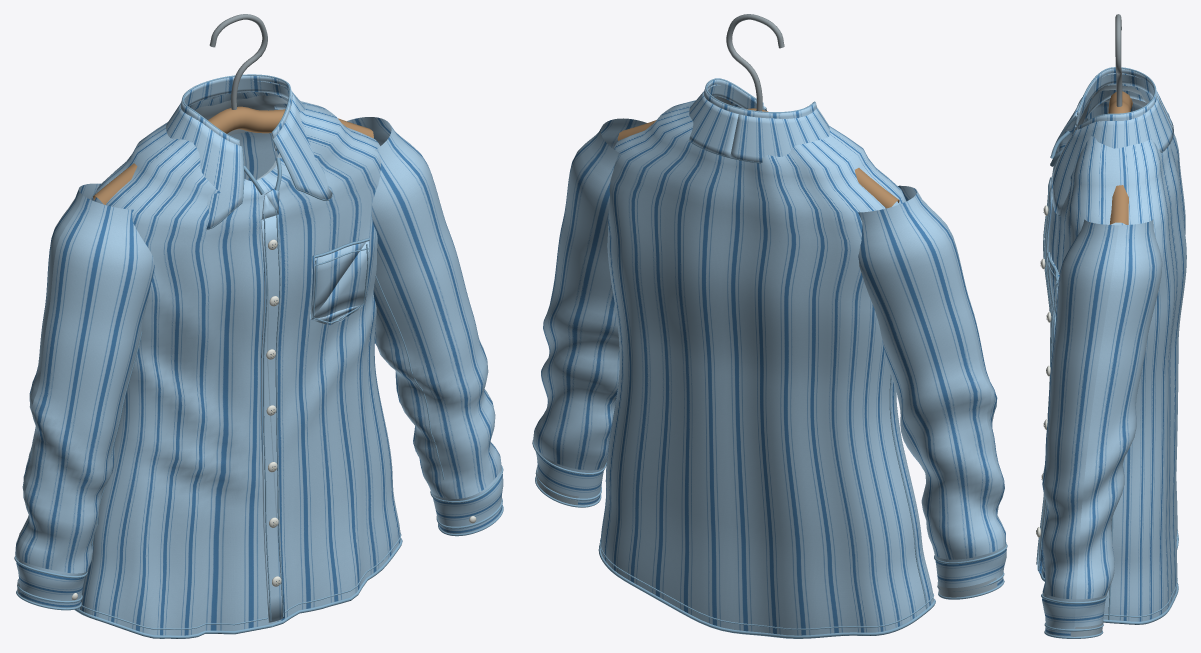
Rendered from oxford.glb.
The picture shows the model from 3 angles, left to right: view 1: azimuth 30°, elevation 25°; view 2: azimuth 150°, elevation 25°; view 3: azimuth 270°, elevation 25°; orthographic projection. The views are drawn at different scales.
Parts seen in each view (by area): view 1: oxford woven shell, Topstitched cloth edge, Warm beech, Yoke and facing, Brushed steel, Pearl buttons; view 2: oxford woven shell, Topstitched cloth edge, Brushed steel, Yoke and facing, Warm beech; view 3: oxford woven shell, Topstitched cloth edge, Warm beech, Yoke and facing, Brushed steel, Pearl buttons.
Boxes of the visible parts, x1,y1,x2,y2 form: oxford woven shell: [15, 76, 503, 635]; Topstitched cloth edge: [14, 74, 503, 638]; Warm beech: [93, 106, 373, 204]; Yoke and facing: [17, 95, 287, 594]; Brushed steel: [209, 14, 267, 109]; Pearl buttons: [71, 239, 476, 600]; oxford woven shell: [533, 79, 1006, 635]; Topstitched cloth edge: [532, 78, 1007, 638]; Brushed steel: [726, 14, 784, 111]; Yoke and facing: [536, 96, 997, 597]; Warm beech: [617, 108, 899, 208]; oxford woven shell: [1037, 68, 1186, 636]; Topstitched cloth edge: [1036, 67, 1178, 638]; Warm beech: [1108, 91, 1132, 224]; Yoke and facing: [1070, 85, 1148, 636]; Brushed steel: [1115, 14, 1122, 106]; Pearl buttons: [1036, 205, 1051, 537].
Bounding box in the file's own units: 2 × 2.38 × 0.5748.
Materials: 8 (1 with a texture image).
